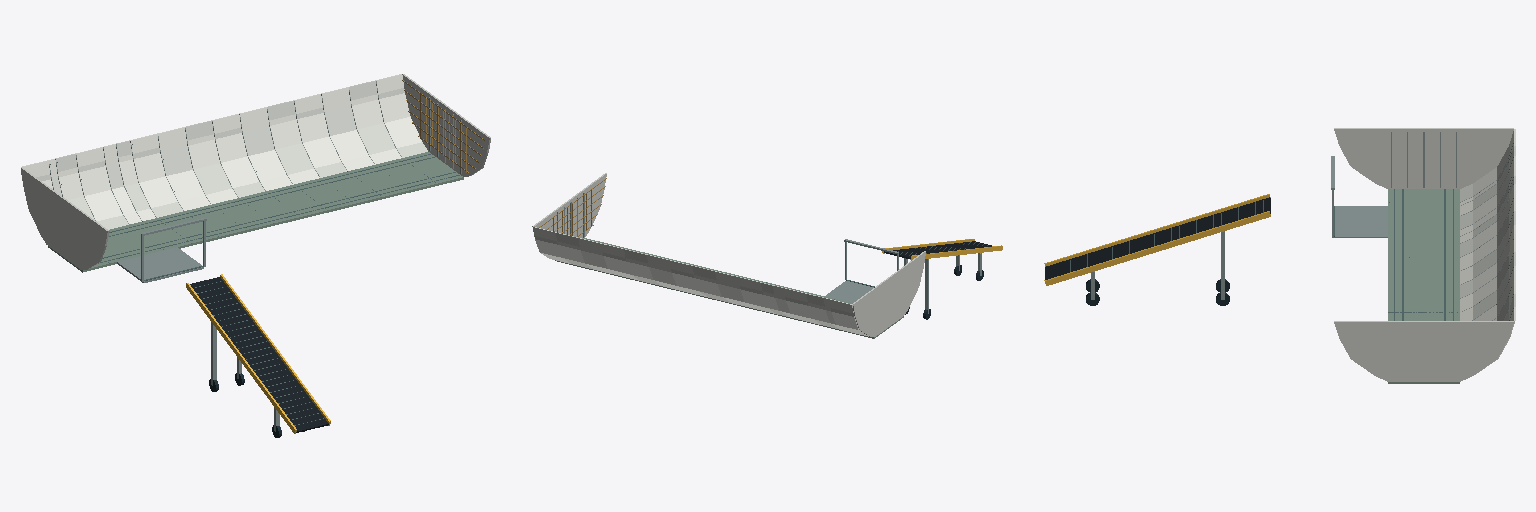
The robot description file, URDF, robot "aircraft_environment":
<?xml version='1.0' encoding='utf-8'?>
<robot name="aircraft_environment">
  <link name="cargo_floor" />
  <link name="nb_hold_cutaway">
    <visual>
      <geometry>
        <mesh filename="package://bellybot_aircraft_environment/models/nb_hold_cutaway/meshes/visual.dae" scale="1 1 1" />
      </geometry>
    </visual>
  </link>
  <joint name="nb_hold_cutaway_fixed" type="fixed">
    <parent link="cargo_floor" />
    <child link="nb_hold_cutaway" />
  </joint>
  <link name="belt_loader">
    <visual>
      <geometry>
        <mesh filename="package://bellybot_aircraft_environment/models/belt_loader/meshes/visual.dae" scale="1 1 1" />
      </geometry>
    </visual>
  </link>
  <joint name="belt_loader_fixed" type="fixed">
    <parent link="cargo_floor" />
    <child link="belt_loader" />
  </joint>
</robot>

--- Facts derived from the render (not from the file) ---
3 views of the same robot in one strip: view 1: azimuth 30°, elevation 25°; view 2: azimuth 150°, elevation 25°; view 3: azimuth 270°, elevation 25° (orthographic).
Robot: aircraft_environment — 3 links, 2 joints (2 fixed); root link cargo_floor; default pose: every joint at zero.
Visible links, largest first — view 1: nb_hold_cutaway, belt_loader; view 2: nb_hold_cutaway, belt_loader; view 3: nb_hold_cutaway, belt_loader.
Boxes of the visible links, box(x1,y1,x2,y2) form: nb_hold_cutaway: box(21, 74, 490, 282); belt_loader: box(186, 274, 330, 437); nb_hold_cutaway: box(532, 173, 925, 338); belt_loader: box(882, 239, 1002, 319); nb_hold_cutaway: box(1331, 128, 1515, 383); belt_loader: box(1044, 194, 1270, 305).
Bounding box of the posed robot: 7.74 × 7.96 × 2.57 m (x, y, z).
2 mesh visuals loaded from 2 distinct referenced files (2 Collada DAE).
